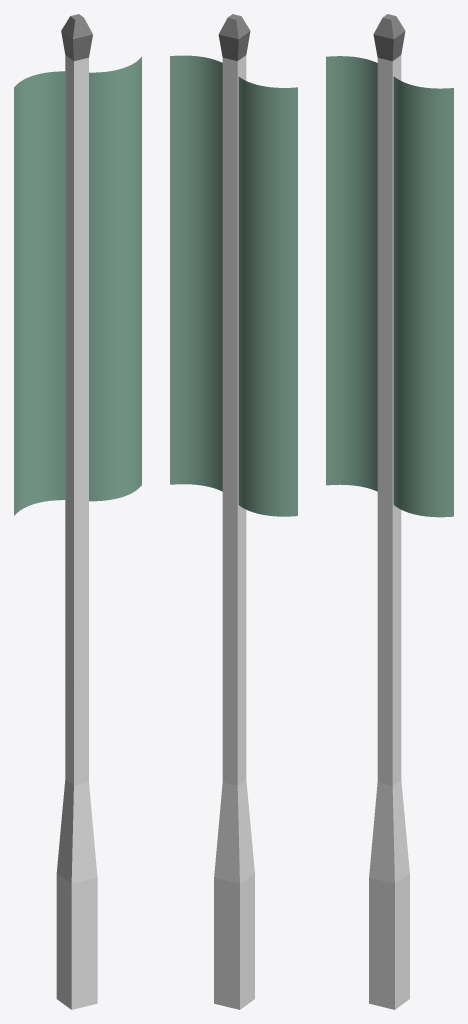
Rendered from flagGreen.glb.
3 views of the same model, side by side, from view 1: azimuth 30°, elevation 25°; view 2: azimuth 150°, elevation 25°; view 3: azimuth 330°, elevation 25° (orthographic).
Parts seen in each view (by area): view 1: flagGreen, flagGreen.001; view 2: flagGreen, flagGreen.001; view 3: flagGreen, flagGreen.001.
Part boxes in pixels (left/top/right/bottom): flagGreen: left=14, top=57, right=141, bottom=515; flagGreen.001: left=56, top=14, right=97, bottom=1009; flagGreen: left=170, top=55, right=297, bottom=516; flagGreen.001: left=214, top=14, right=254, bottom=1009; flagGreen: left=326, top=56, right=453, bottom=517; flagGreen.001: left=369, top=14, right=409, bottom=1009.
Size of the model in its own units: 0.85 by 6.25 by 0.176.
